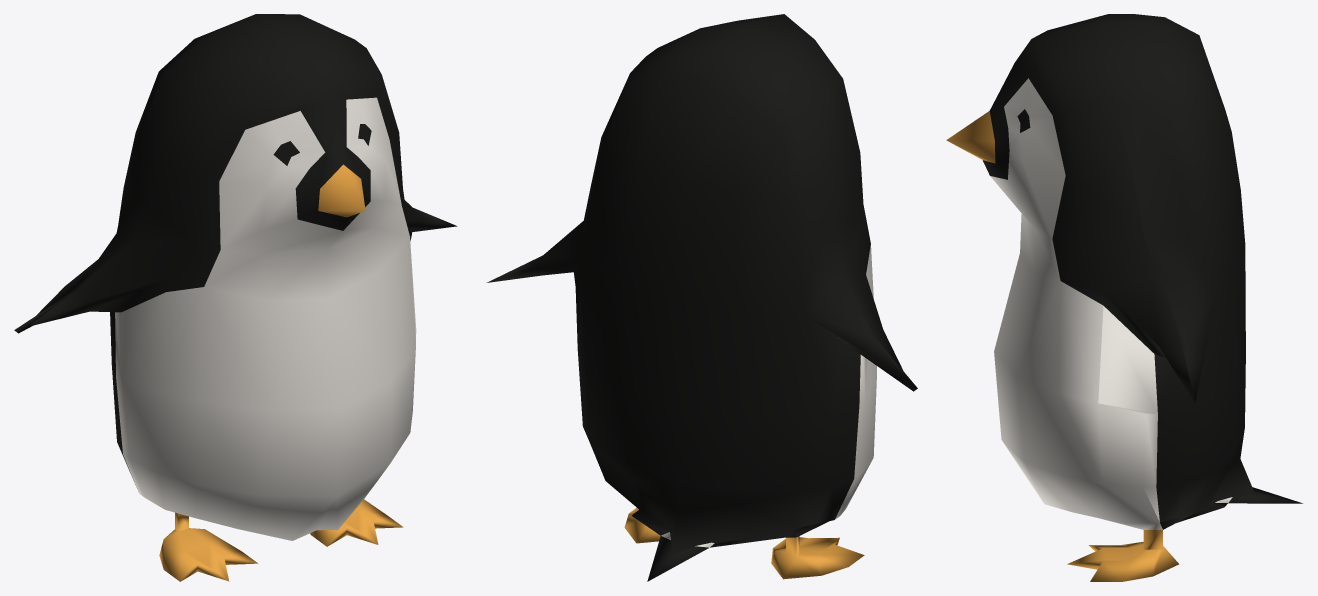
File: pinguin-black.fbx
3 renders of one model, left to right at view 1: azimuth 30°, elevation 25°; view 2: azimuth 150°, elevation 25°; view 3: azimuth 270°, elevation 25°, orthographic. The views are drawn at different scales.
Parts seen in each view (by area): view 1: Cube.002; view 2: Cube.002; view 3: Cube.002.
Part boxes in pixels (box(x1,y1,x2,y2)): Cube.002: box(14, 14, 457, 581); Cube.002: box(486, 14, 917, 581); Cube.002: box(946, 14, 1302, 581).
Bounding box in the file's own units: 220 × 248 × 159.
